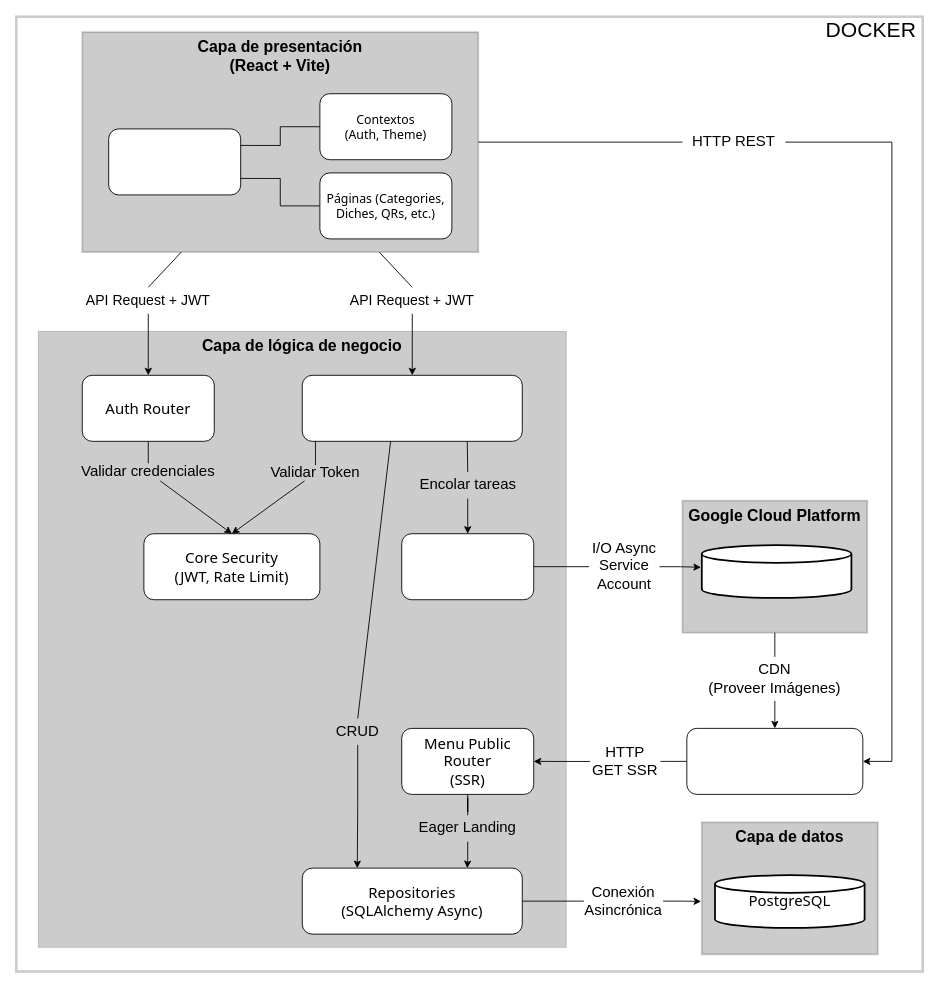
Image size: 939x987. Some labels were removed from this diagram. Here are the shapes that lost their labels. From the top down, the centre of each, then its label:
pixel 174 161: Componentes UX/UI
pixel 411 407: Admin Router (Upload, QR, etc.)
pixel 467 566: Worker Pool (Pillow)
pixel 776 571: Google Storage Bucket
pixel 774 760: Cliente (Navegador, Móvil, etc.)
